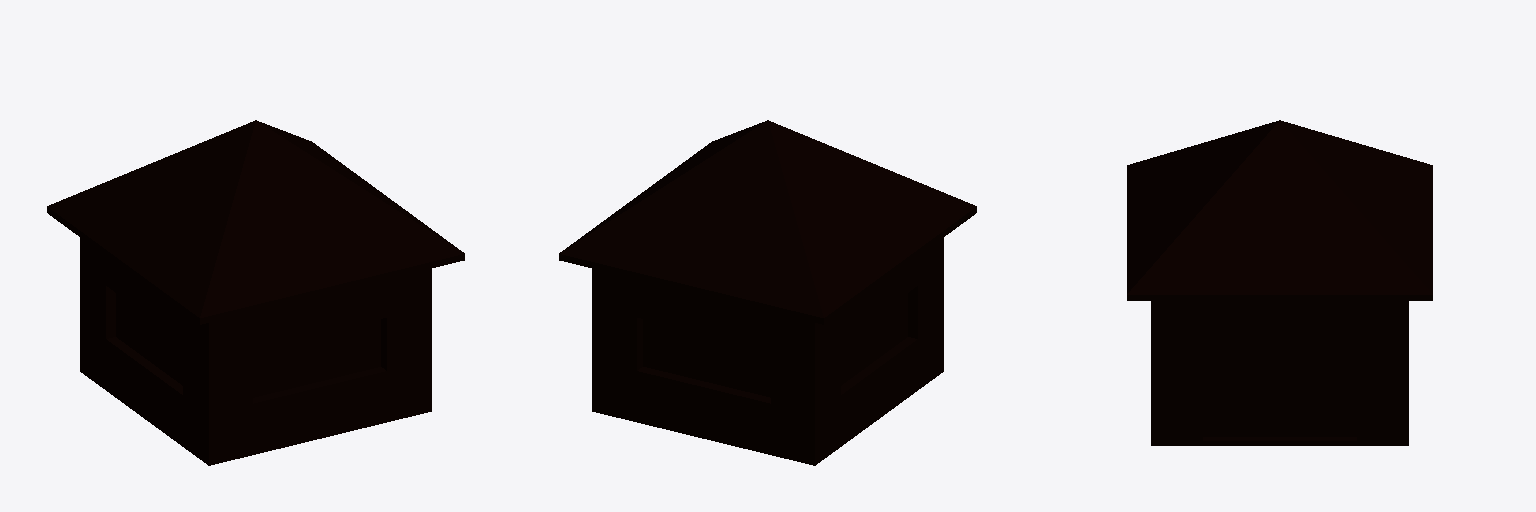
File: casa.obj
3 renders of one model, left to right at view 1: azimuth 30°, elevation 25°; view 2: azimuth 150°, elevation 25°; view 3: azimuth 270°, elevation 25°, orthographic.
Visible parts, largest first — view 1: casafiliperama:pCube3; view 2: casafiliperama:pCube3; view 3: casafiliperama:pCube3.
Boxes of the visible parts, x1,y1,x2,y2 form: casafiliperama:pCube3: [47, 120, 464, 465]; casafiliperama:pCube3: [559, 120, 976, 465]; casafiliperama:pCube3: [1127, 120, 1432, 445].
Bounding box in the file's own units: 6.5 × 6.35 × 6.5.